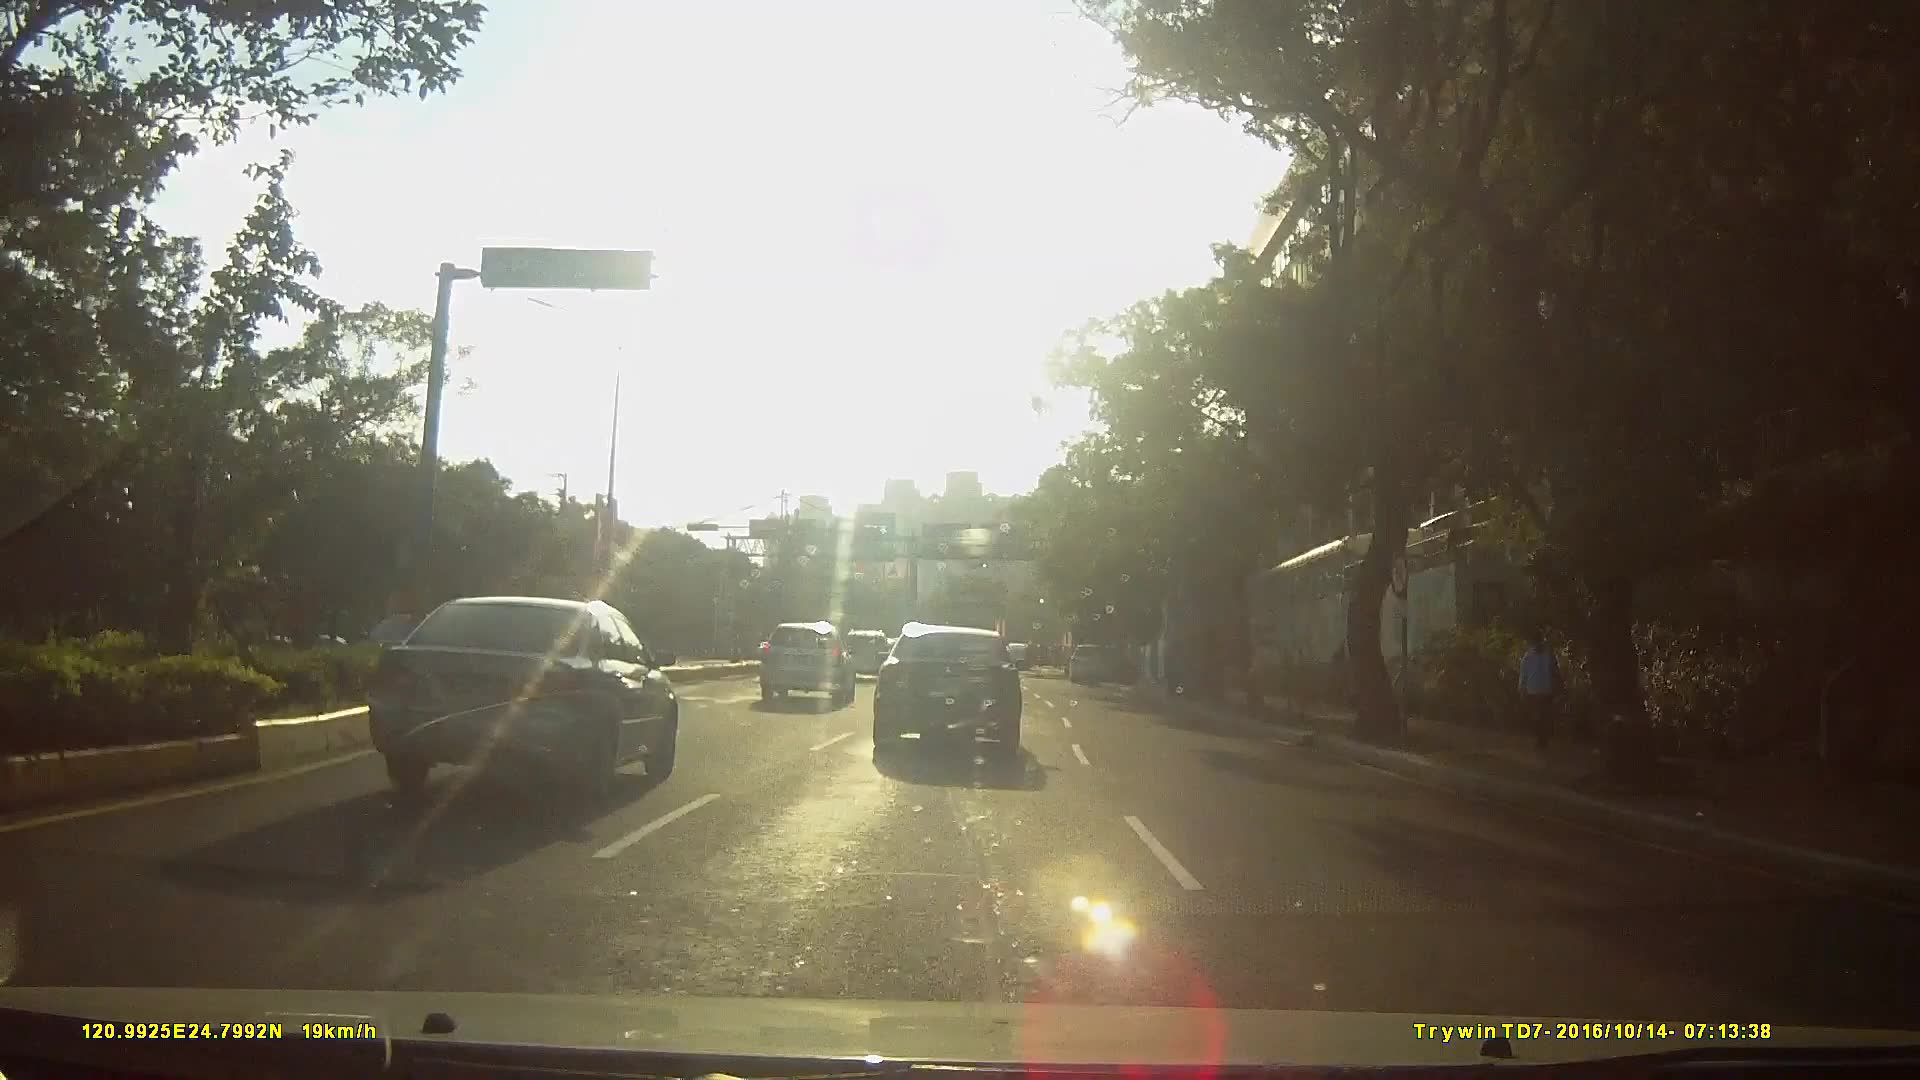pedestrian: (1514, 623, 1565, 748)
vehicle: (361, 583, 675, 796), (868, 615, 1040, 758), (756, 615, 856, 703), (839, 622, 893, 680), (1068, 634, 1117, 678)
